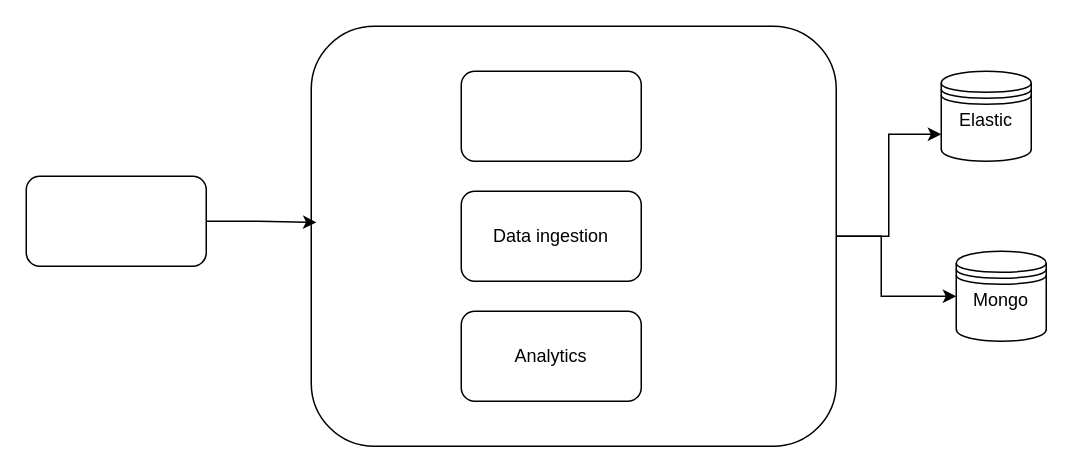
The diagram is 1073 pixels wide and 473 high, and some of its shapes have lost their labels. Here are the shapes that lost their labels. From the top down, the box of each, then its label:
(460, 70, 641, 161): Search
(25, 175, 206, 266): UI
